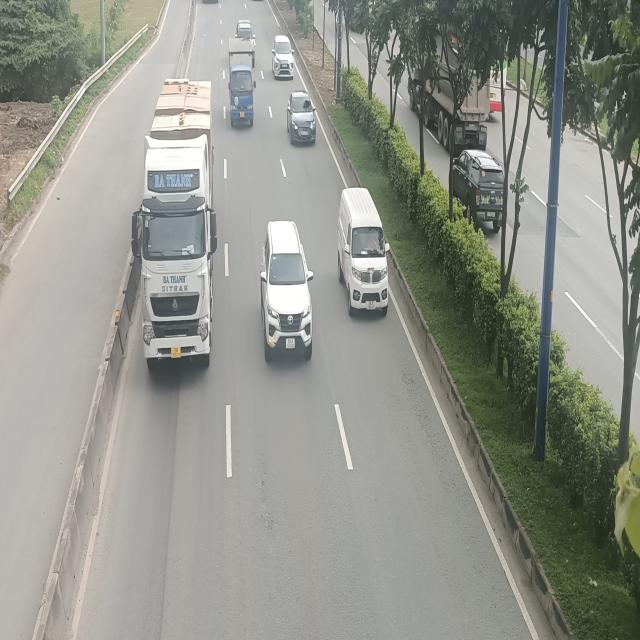car: (260, 218, 314, 354), (286, 93, 316, 143), (272, 36, 294, 80)
container: (131, 79, 217, 369)
truck: (228, 38, 255, 125)
van: (338, 185, 388, 316)
